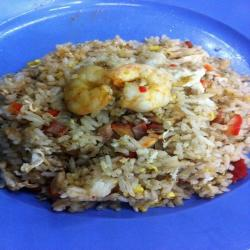rice: (19, 50, 231, 192)
